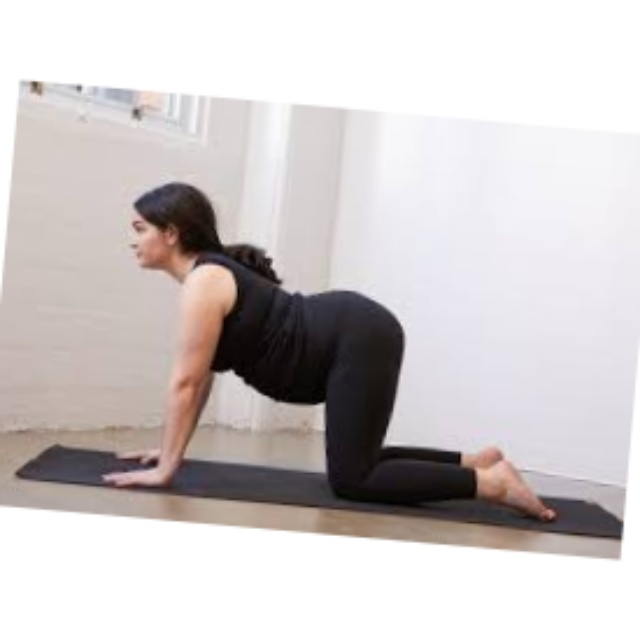Cow_Pose: (100, 183, 561, 522)
